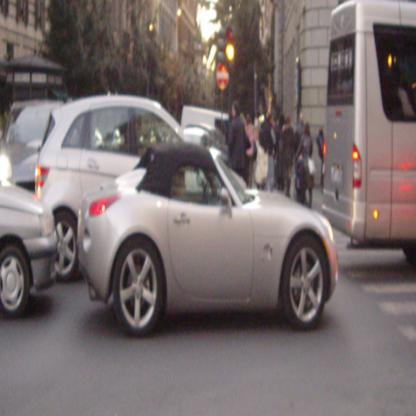Car: (34, 91, 244, 276), (0, 173, 56, 315), (0, 101, 63, 187), (183, 123, 227, 147)
